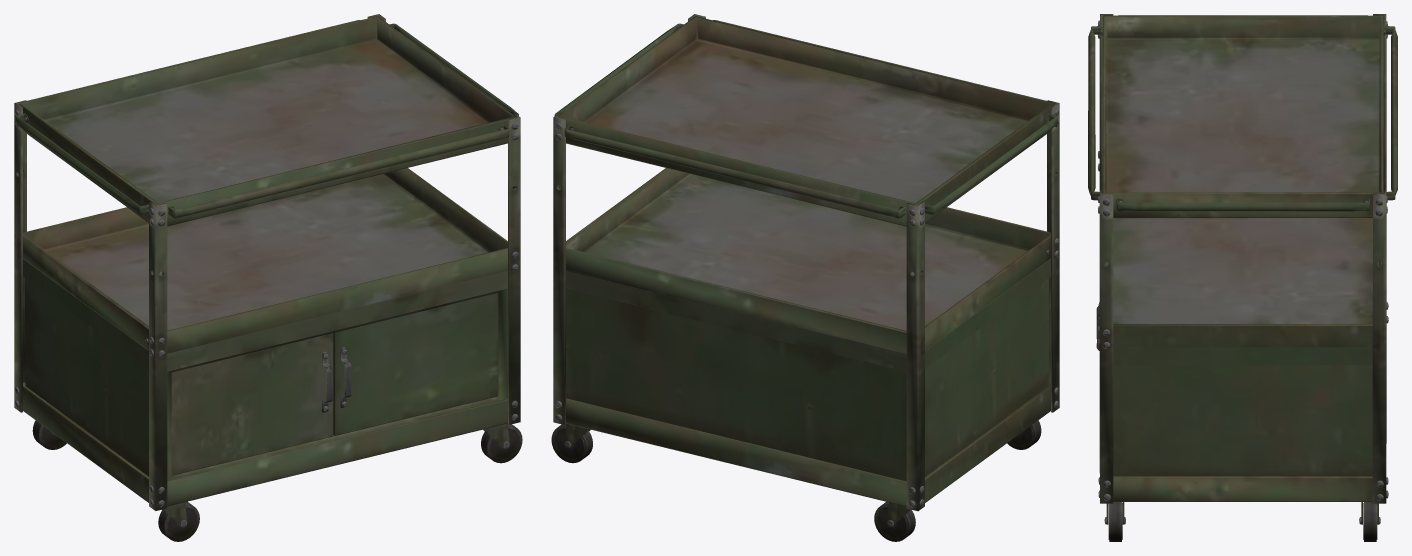
File: industrial_storage_cart.glb
3 renders of one model, left to right at view 1: azimuth 30°, elevation 25°; view 2: azimuth 150°, elevation 25°; view 3: azimuth 270°, elevation 25°, orthographic.
Parts seen in each view (by area): view 1: industrial_storage_cart; view 2: industrial_storage_cart; view 3: industrial_storage_cart.
Boxes of the visible parts, x1,y1,x2,y2 form: industrial_storage_cart: [14, 14, 522, 541]; industrial_storage_cart: [551, 14, 1059, 541]; industrial_storage_cart: [1088, 14, 1397, 541].
Bounding box in the file's own units: 1.6 × 1.38 × 1.1.
Materials: 1 (1 with a texture image).
